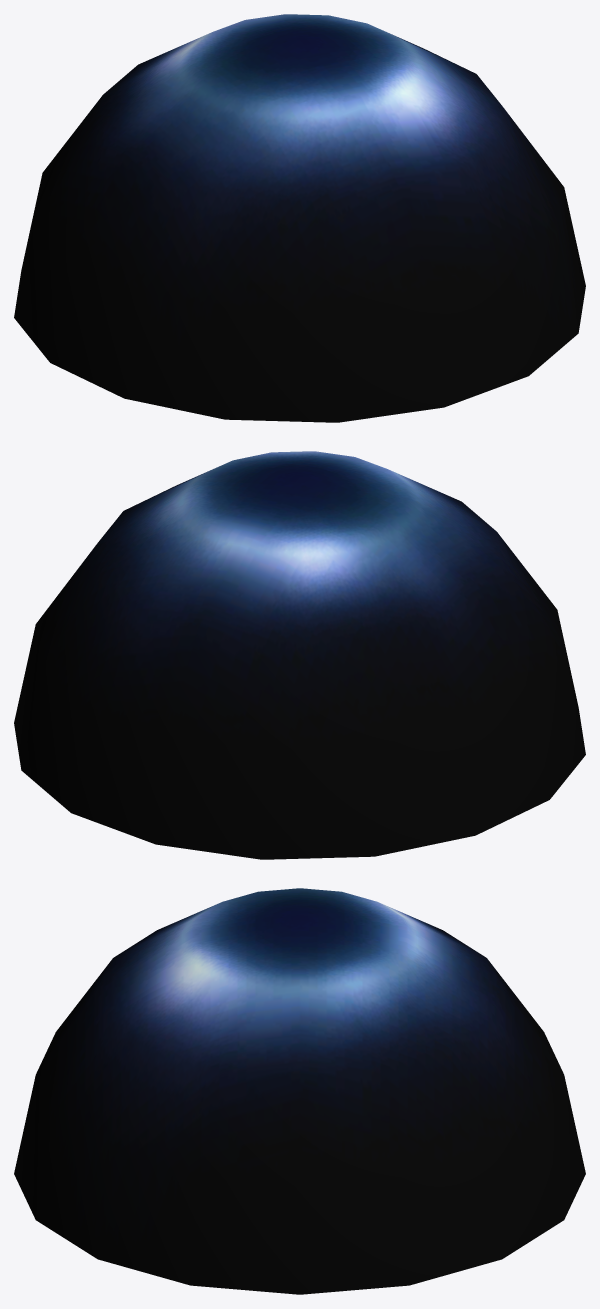
The model's file is banyuan_160512.FBX.
3 views of the same model, one above another, from view 1: azimuth 30°, elevation 25°; view 2: azimuth 150°, elevation 25°; view 3: azimuth 270°, elevation 25° (orthographic).
Visible parts, largest first — view 1: Sphere001; view 2: Sphere001; view 3: Sphere001.
Boxes of the visible parts, x1,y1,x2,y2 form: Sphere001: [14, 14, 585, 422]; Sphere001: [14, 451, 585, 859]; Sphere001: [14, 888, 585, 1294].
Size of the model in its own units: 60 by 30 by 60.
